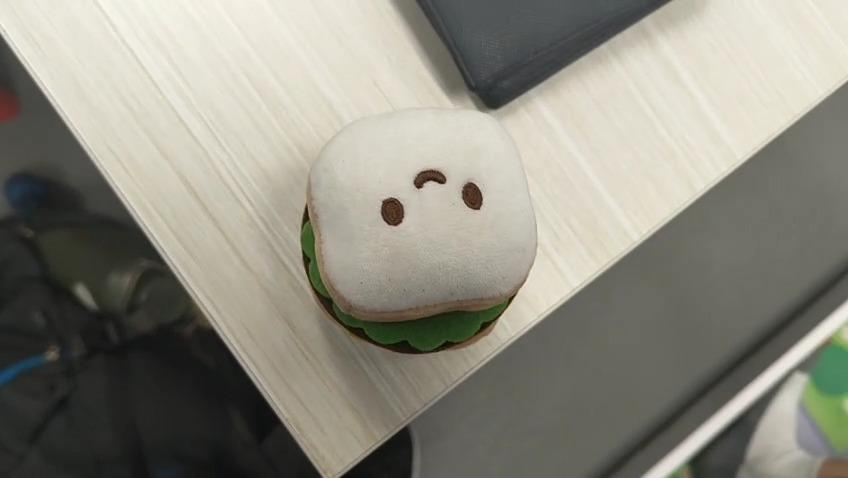objects: (299, 108, 544, 354)
